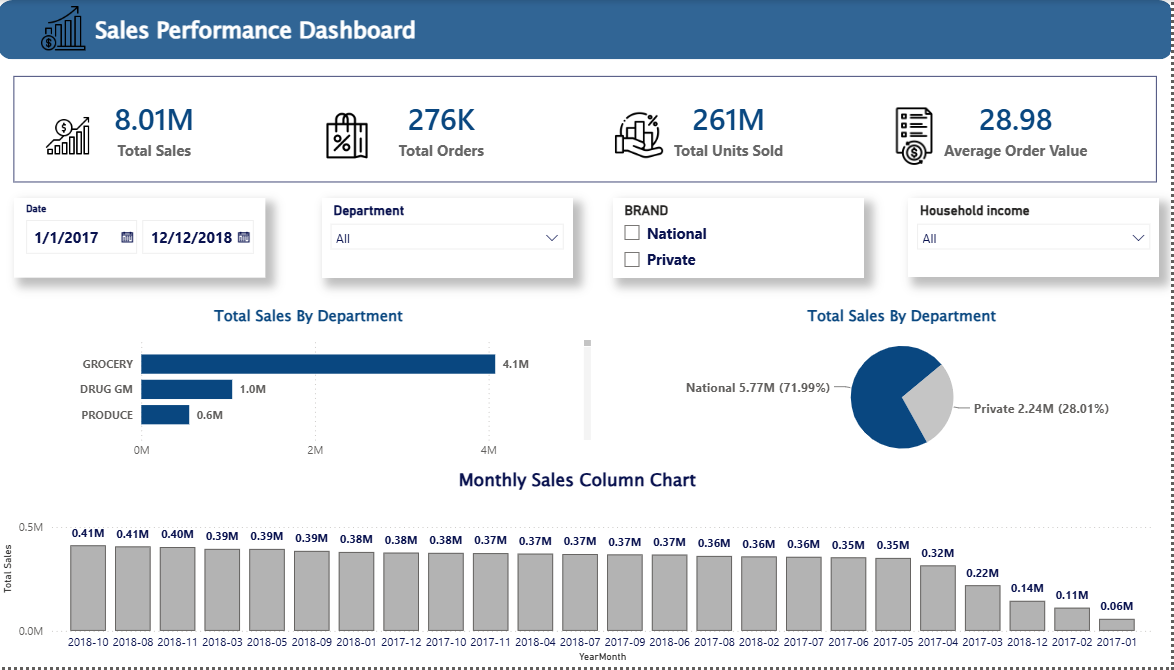

This screenshot's page, from the dashboard's own definition file:
{"tool":"powerbi","page":{"name":"Page 1","canvas":[1280,720],"ordinal":0},"visuals":[{"type":"shape","box":[10.7,0,1269.6,64.3],"z":0},{"type":"slicer","fields":{"Values":["DimDate.Date"]},"box":[28.6,214.3,271.4,85.7],"z":0,"group":"g1"},{"type":"image","box":[58.9,7.1,48.2,48.2],"z":1000},{"type":"slicer","fields":{"Values":["DimProduct.DEPARTMENT"]},"box":[360.7,214.3,271.4,85.7],"z":1000,"group":"g1"},{"type":"slicer","fields":{"Values":["DimProduct.BRAND"]},"box":[675,214.3,271.4,85.7],"z":2000,"group":"g1"},{"type":"clusteredBarChart","title":"Total Sales By Department","fields":{"Y":["_Measures.Total Sales"],"Category":["DimProduct.DEPARTMENT"]},"box":[37.5,328.6,619.6,175],"z":2000},{"type":"cardVisual","fields":{"Data":["_Measures.Total Sales","_Measures.Order Count","_Measures.Total Units","_Measures.Average Order Value"]},"box":[10.7,64.3,1269.6,150],"z":3000,"group":"g2"},{"type":"slicer","fields":{"Values":["DimHousehold.INCOME_CATEGORY_DESC"]},"box":[992.9,214.3,271.4,85],"z":3000,"group":"g1"},{"type":"pieChart","title":"Total Sales By Department","fields":{"Category":["DimProduct.BRAND"],"Y":["_Measures.Total Sales"]},"box":[712.5,328.6,550,175],"z":3000},{"type":"clusteredColumnChart","title":"   Monthly Sales Column Chart","fields":{"Category":["DimDate.YearMonth"],"Y":["_Measures.Total Sales"]},"box":[10.7,503.6,1251.8,216.1],"z":4000},{"type":"group","id":"g1","title":"Group 1","box":[28.6,214.3,1235.7,85.7],"z":5000},{"type":"group","id":"g2","title":"Group 2","box":[10.7,64.3,1269.6,150],"z":6000},{"type":"image","box":[360.7,121.4,57.1,50],"z":6000,"group":"g2"},{"type":"textbox","box":[112.5,8.9,405.4,55.4],"z":7000},{"type":"image","box":[675,119.7,57.1,51.8],"z":7000,"group":"g2"},{"type":"image","box":[946.4,114.3,107.1,64.3],"z":8000,"group":"g2"},{"type":"image","box":[58.9,121.4,53.6,50],"z":9000,"group":"g2"}]}

Visuals, with their boxes in screenshot pixels (x1, y1, x2, y2), scaled from the page's 1280x720 canvas onto the 1174x670 screenshot:
shape: region(10, 0, 1173, 60)
slicer - DimDate.Date: region(26, 199, 275, 279)
image: region(54, 7, 98, 51)
slicer - DimProduct.DEPARTMENT: region(331, 199, 580, 279)
slicer - DimProduct.BRAND: region(619, 199, 868, 279)
"Total Sales By Department" clusteredBarChart: region(34, 306, 603, 469)
cardVisual - _Measures.Total Sales x _Measures.Order Count: region(10, 60, 1173, 199)
slicer - DimHousehold.INCOME_CATEGORY_DESC: region(911, 199, 1160, 279)
"Total Sales By Department" pieChart: region(653, 306, 1158, 469)
"   Monthly Sales Column Chart" clusteredColumnChart: region(10, 469, 1158, 669)
"Group 1" group: region(26, 199, 1160, 279)
"Group 2" group: region(10, 60, 1173, 199)
image: region(331, 113, 383, 159)
textbox: region(103, 8, 475, 60)
image: region(619, 111, 671, 160)
image: region(868, 106, 966, 166)
image: region(54, 113, 103, 159)
